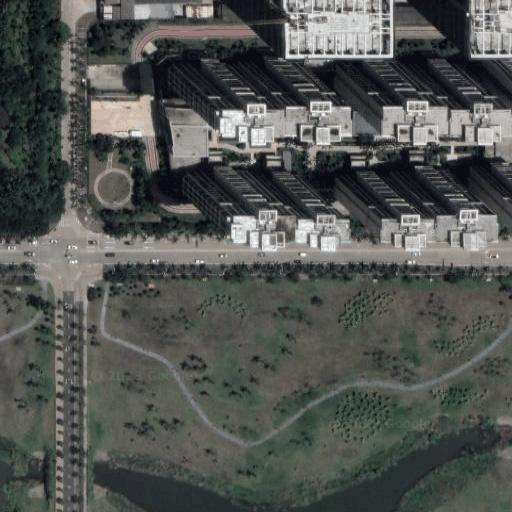building: (222, 73, 360, 119), (381, 85, 510, 129), (83, 57, 156, 133), (386, 185, 504, 232), (223, 168, 345, 208), (169, 105, 212, 158), (135, 2, 169, 19), (105, 0, 120, 18)
